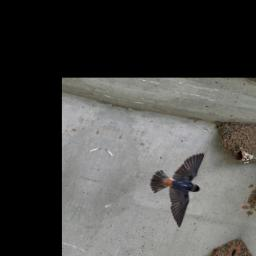Swallow: (134, 144, 215, 231)
